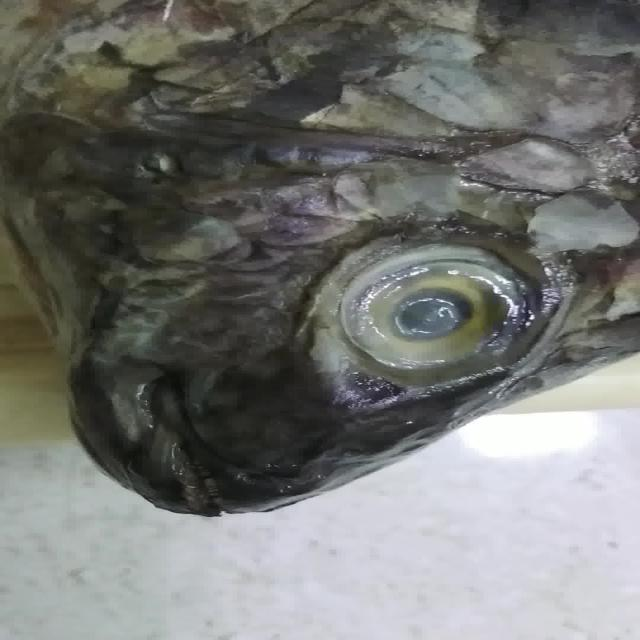Non-Fresh: (346, 245, 533, 392)
